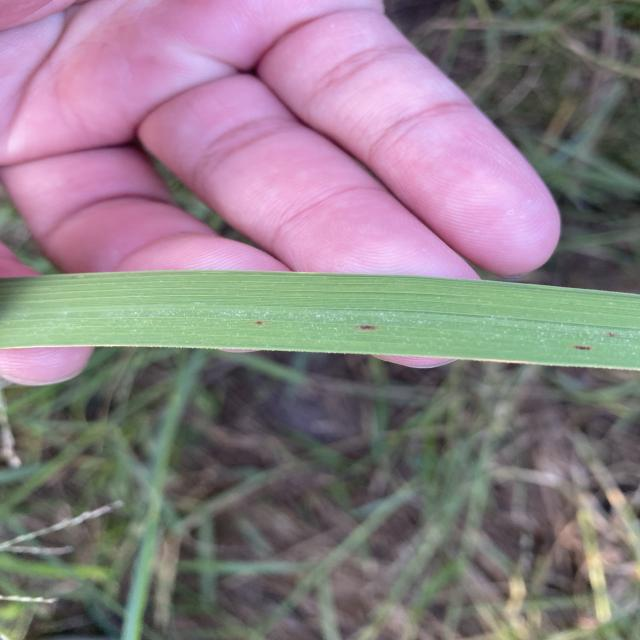Dom nau: (359, 325, 377, 330), (574, 346, 591, 350), (254, 321, 264, 325)
